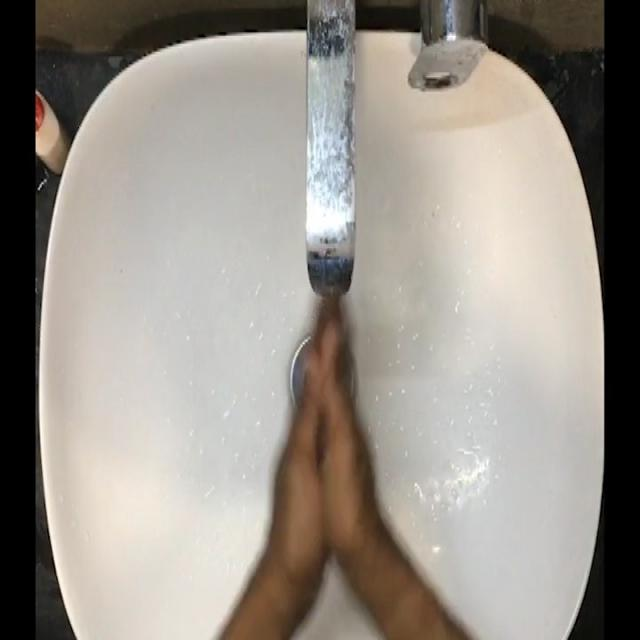step_1: (253, 255, 398, 577)
